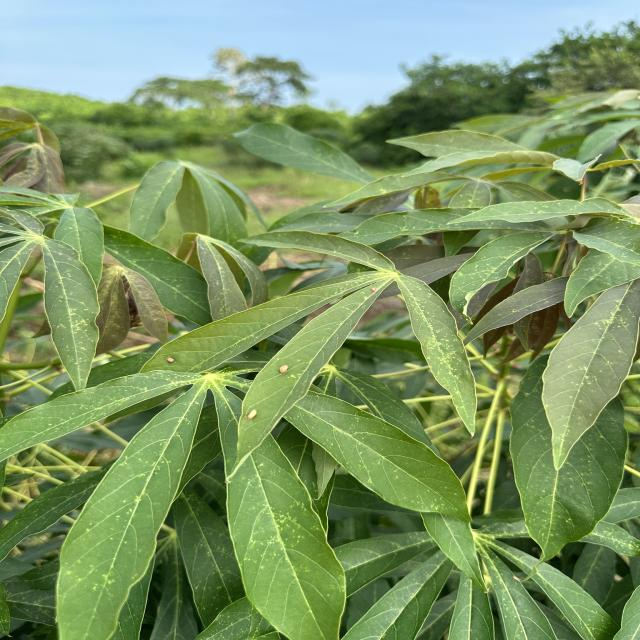Mosca: (245, 400, 272, 430), (265, 355, 295, 379), (155, 349, 182, 370)
